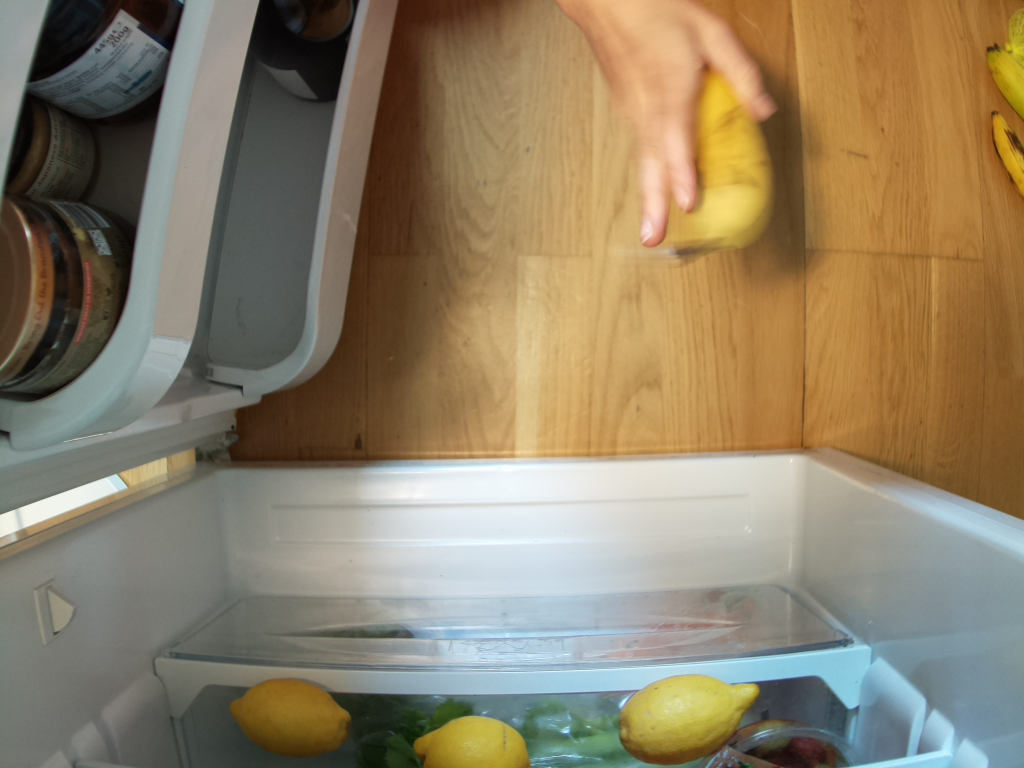banana: (661, 63, 768, 280)
